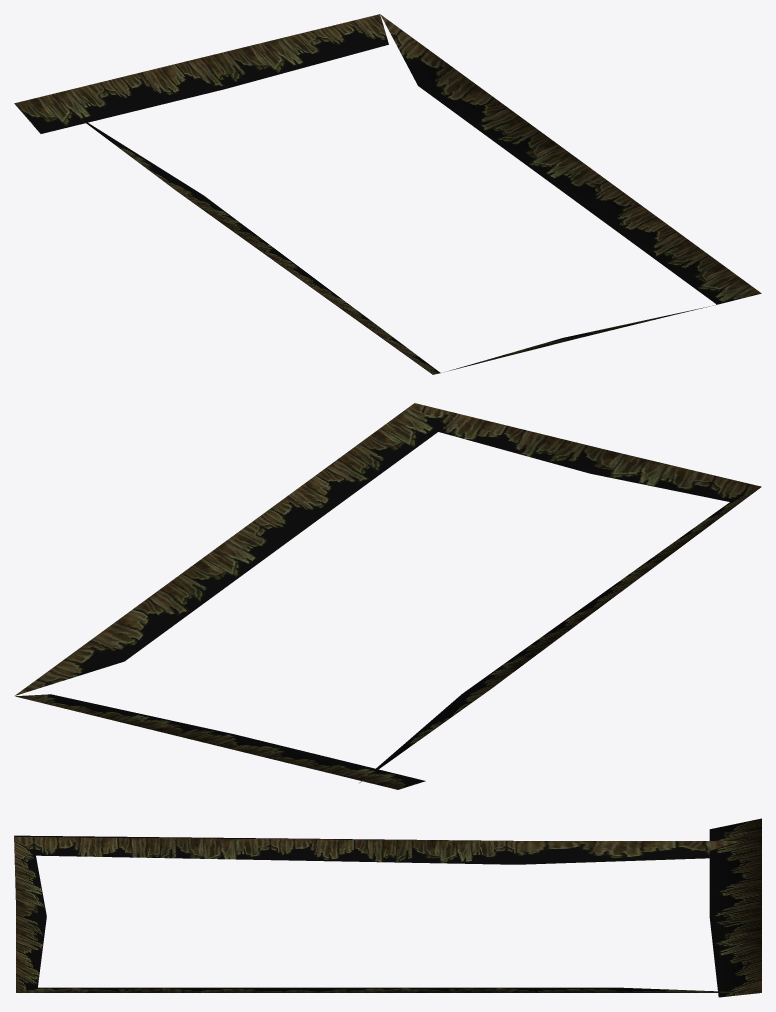
File: LAKETOWN_WAREHOUSE3_PS_WH3_BROKEBOARDS84847.fbx
3 renders of one model, top to bottom at view 1: azimuth 30°, elevation 25°; view 2: azimuth 150°, elevation 25°; view 3: azimuth 270°, elevation 25°, orthographic. The views are drawn at different scales.
Visible parts, largest first — view 1: LAKETOWN_WAREHOUSE3_PS_WH3_BROKEBOARDS84847; view 2: LAKETOWN_WAREHOUSE3_PS_WH3_BROKEBOARDS84847; view 3: LAKETOWN_WAREHOUSE3_PS_WH3_BROKEBOARDS84847.
Boxes of the visible parts, x1=… form: LAKETOWN_WAREHOUSE3_PS_WH3_BROKEBOARDS84847: x1=14, y1=14, x2=761, y2=374; LAKETOWN_WAREHOUSE3_PS_WH3_BROKEBOARDS84847: x1=15, y1=403, x2=761, y2=789; LAKETOWN_WAREHOUSE3_PS_WH3_BROKEBOARDS84847: x1=14, y1=818, x2=761, y2=997.
Bounding box in the file's own units: 100228 × 4186 × 181559.
1 material, 1 textured.
